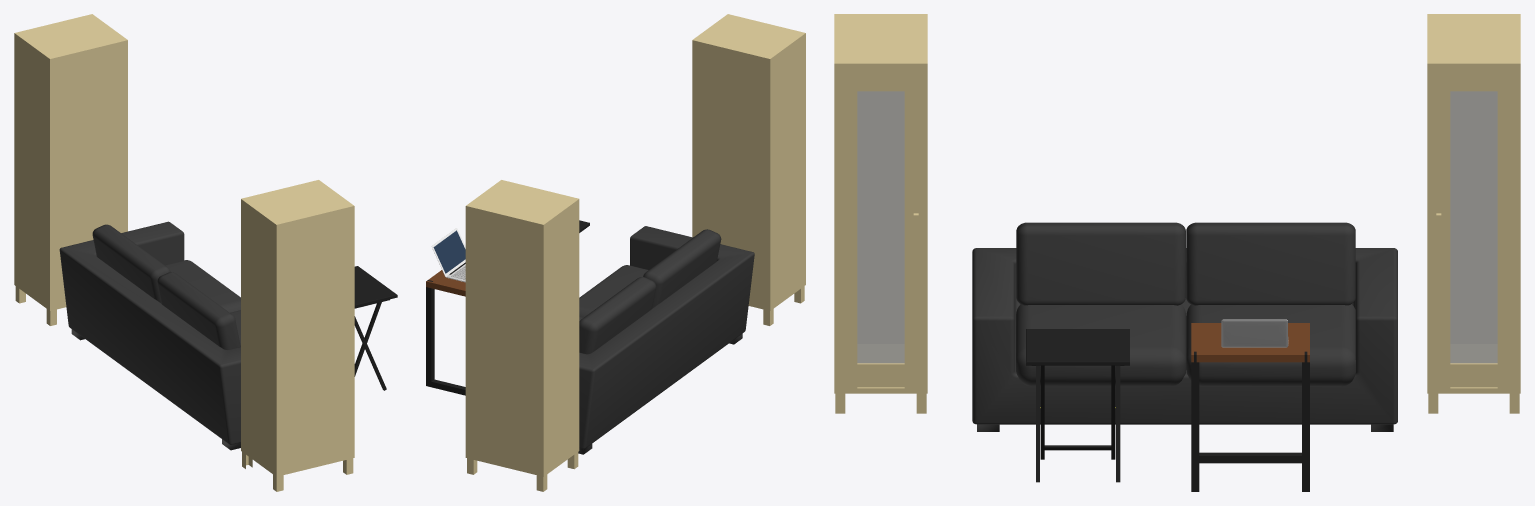
The model's file is 6k_love_seat_2.fbx.
The picture shows the model from 3 angles, left to right: view 1: azimuth 30°, elevation 25°; view 2: azimuth 150°, elevation 25°; view 3: azimuth 270°, elevation 25°; orthographic projection. The views are drawn at different scales.
Parts seen in each view (by area): view 1: Group2, Group3, love_seat_gris1, Component_3_1, Component_3_2, Component_4_2, top1; view 2: Group3, Group2, love_seat_gris1, Component_3_2, Component_3_1, Component_4_1, Component_21_1, table_stile1; view 3: Group2, Group3, love_seat_gris1, Component_3_1, Component_3_2, Component_4_1, Component_4_2, top1, Component_21_1, inner_legs1, Table_Top1, Table_front_rail_tenon_top_or_bottom1 (+4 smaller).
Boxes of the visible parts, bbox=[...] form: Group2: bbox=[241, 180, 354, 491]; Group3: bbox=[14, 14, 127, 325]; love_seat_gris1: bbox=[59, 221, 240, 450]; Component_3_1: bbox=[157, 272, 240, 349]; Component_3_2: bbox=[92, 224, 170, 303]; Component_4_2: bbox=[165, 260, 240, 312]; top1: bbox=[354, 266, 397, 308]; Group3: bbox=[465, 180, 579, 491]; Group2: bbox=[692, 14, 805, 325]; love_seat_gris1: bbox=[578, 226, 754, 454]; Component_3_2: bbox=[579, 277, 656, 354]; Component_3_1: bbox=[643, 229, 721, 308]; Component_4_1: bbox=[579, 265, 648, 317]; Component_21_1: bbox=[431, 228, 465, 277]; table_stile1: bbox=[426, 280, 434, 381]; Group2: bbox=[834, 14, 927, 413]; Group3: bbox=[1427, 14, 1520, 413]; love_seat_gris1: bbox=[972, 248, 1397, 431]; Component_3_1: bbox=[1016, 222, 1185, 305]; Component_3_2: bbox=[1186, 222, 1355, 305]; Component_4_1: bbox=[1016, 304, 1186, 386]; Component_4_2: bbox=[1186, 304, 1355, 386]; top1: bbox=[1026, 329, 1129, 365]; Component_21_1: bbox=[1221, 319, 1287, 347]; inner_legs1: bbox=[1040, 365, 1115, 459]; Table_Top1: bbox=[1199, 326, 1301, 351]; Table_front_rail_tenon_top_or_bottom1: bbox=[1199, 452, 1301, 463].
Size of the model in its own units: 57.15 by 71.83 by 127.
